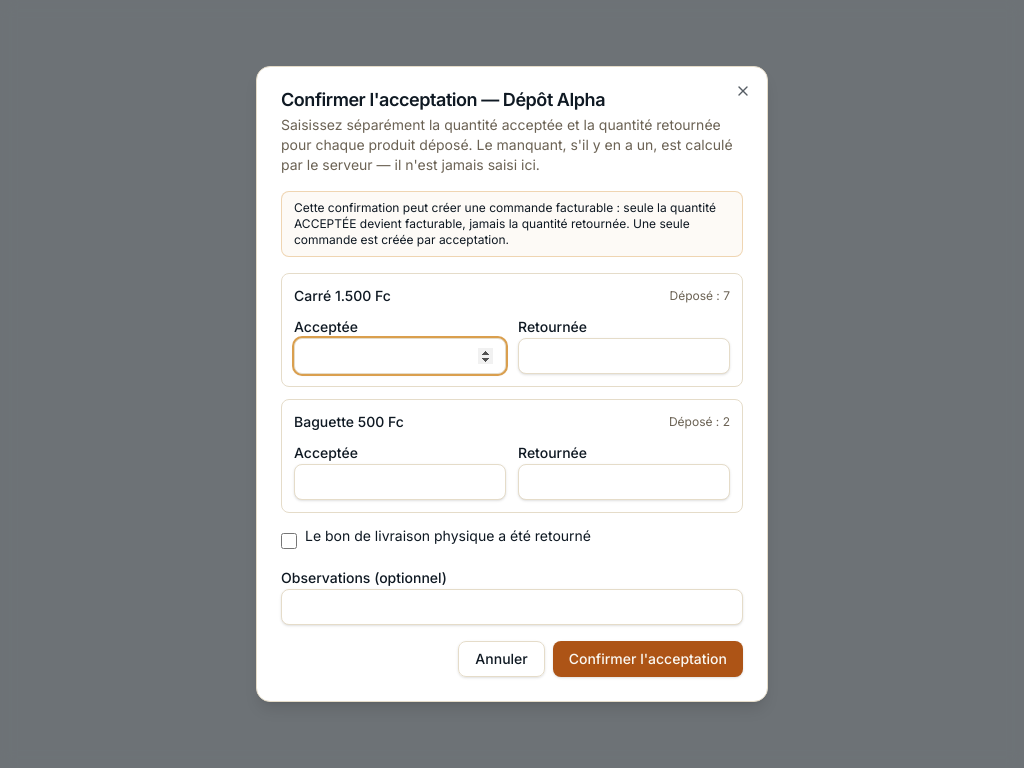
DialogAcceptationCycle — DOM (F5B, vague 3) › conflit de version (409 VERSION_OBSOLETE) : explique clairement, ne retente jamais automatiquement
Type "7" into the number field labelled "Acceptée" below "Carré 1.500 Fc".
click(400, 356); type("7")  # box 294,338 -> 506,374
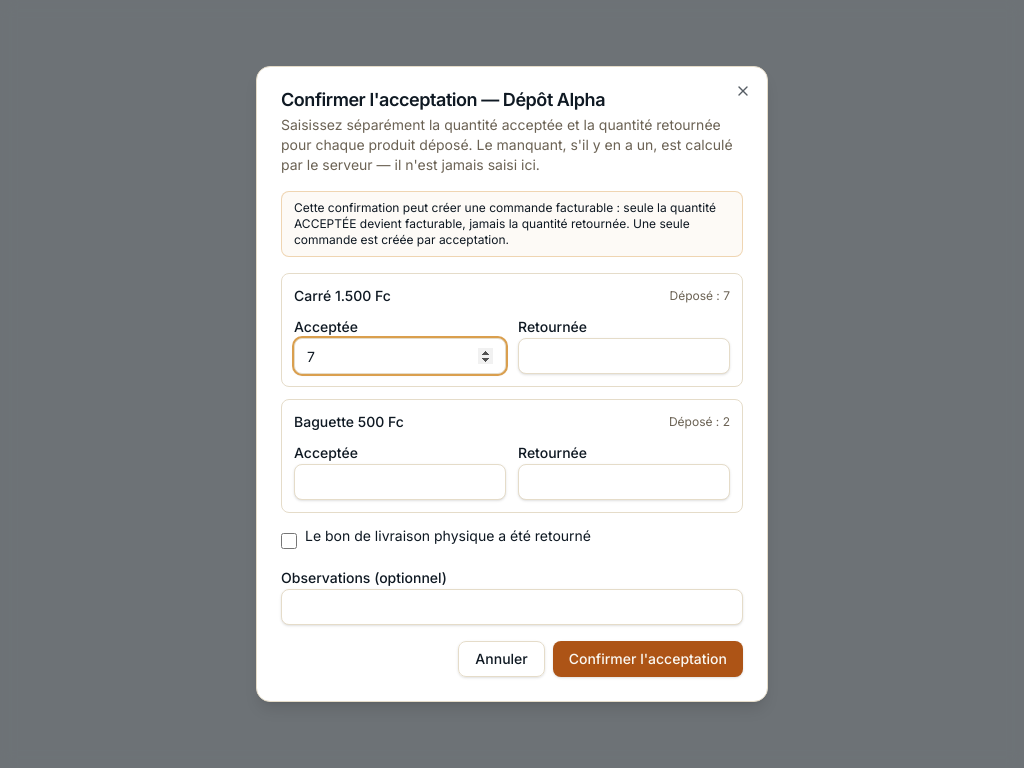
Type "0" into the number field labelled "Retournée" below "Carré 1.500 Fc".
click(624, 356); type("0")  # box 518,338 -> 730,374
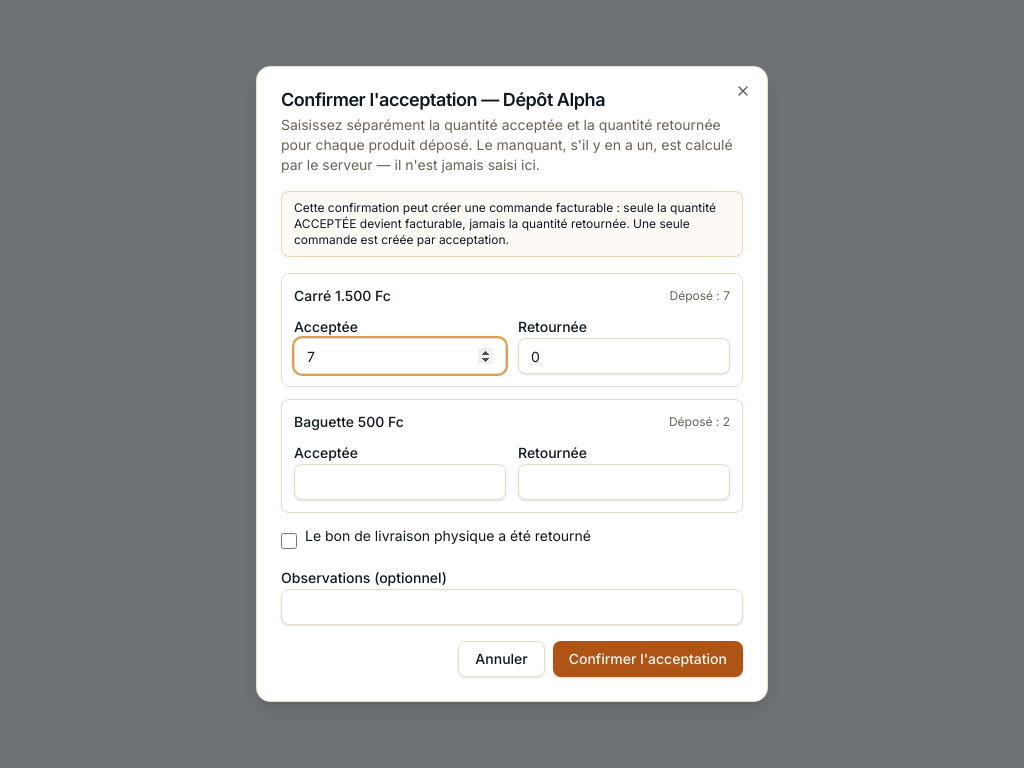
Type "2" into the number field labelled "Acceptée" below "Baguette 500 Fc".
click(400, 482); type("2")  # box 294,464 -> 506,500
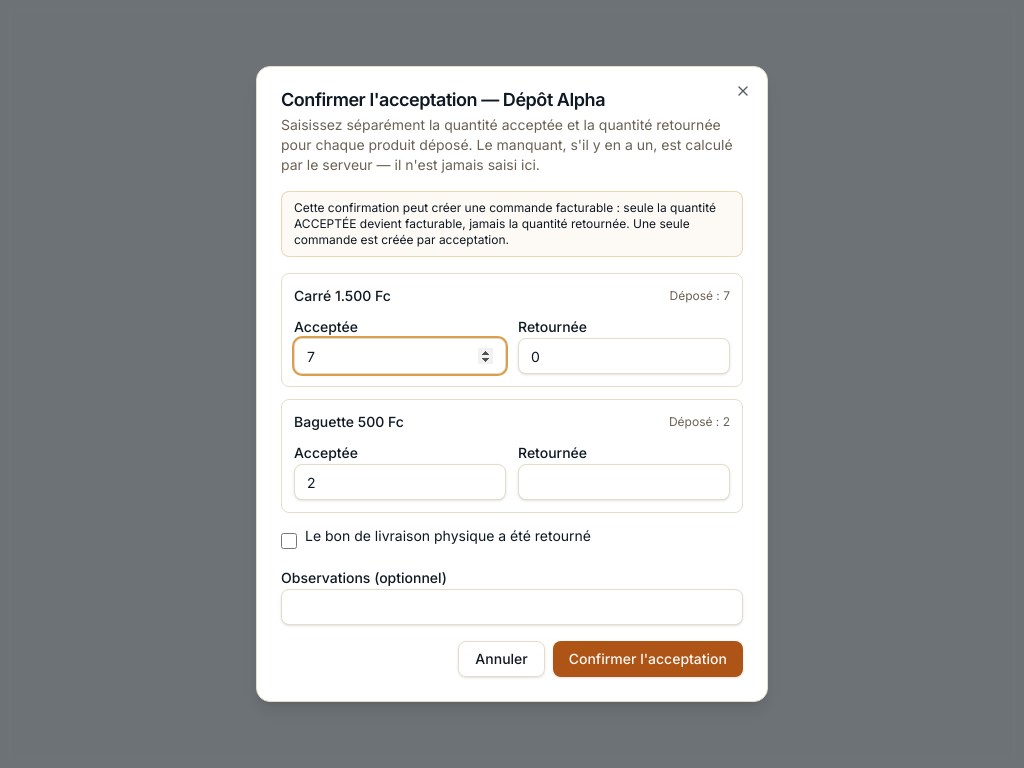
Type "0" into the number field labelled "Retournée" below "Baguette 500 Fc".
click(624, 482); type("0")  # box 518,464 -> 730,500
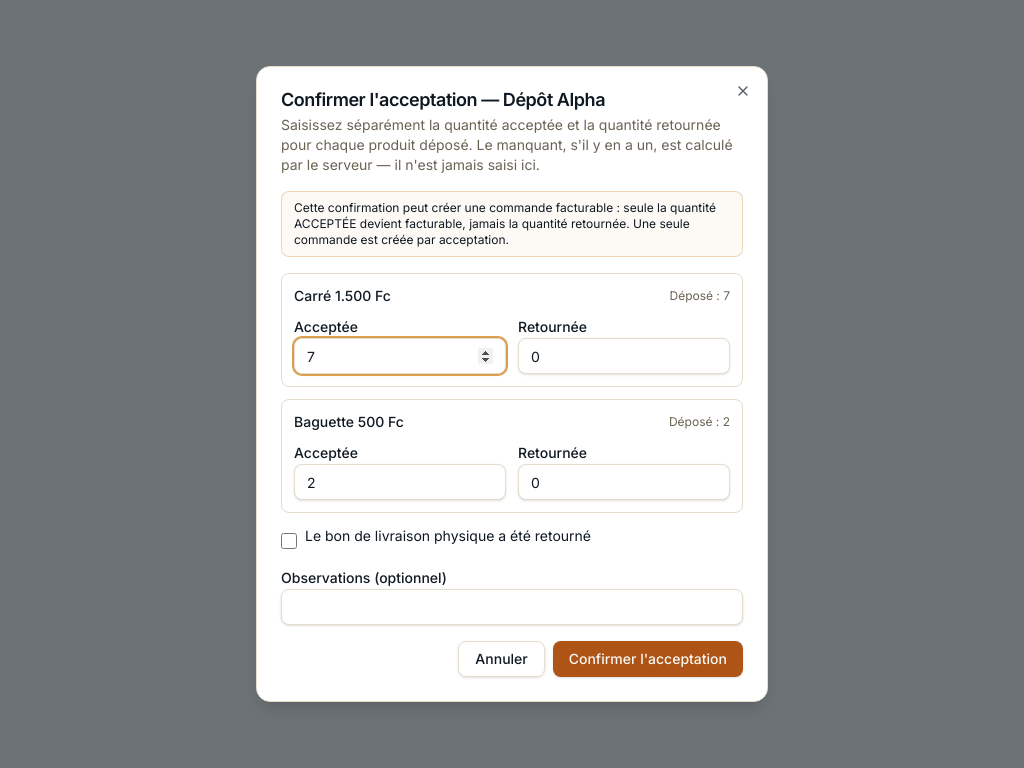
Click the button "Confirmer l'acceptation".
click(648, 659)  # box 553,641 -> 743,677
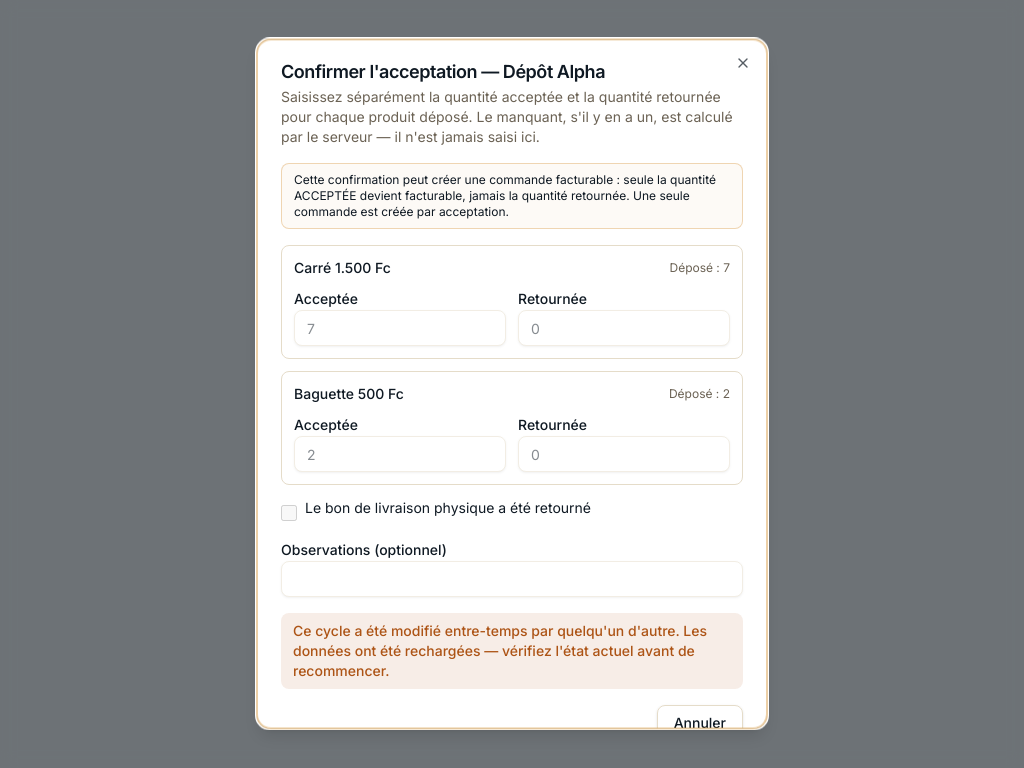
Now the message shows "modifié", box 293,622 -> 707,679
